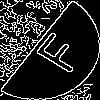F: (24, 25, 89, 76)
